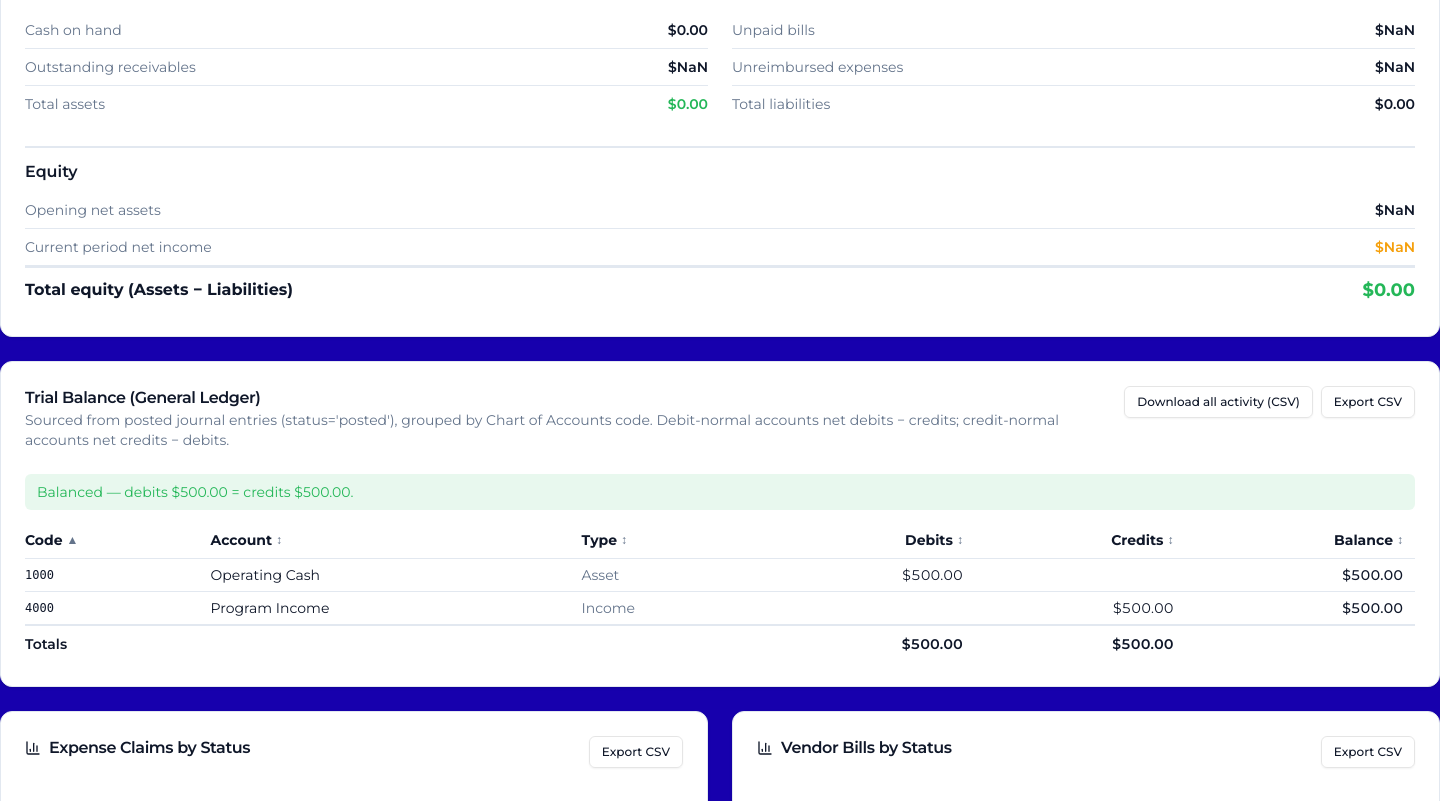
Reports page — partial date input regression (Task #65 / #75) › shows an inline error notice after a bulk export when one or more per-account fetches fail (Task #98)
The image size is (1440, 801).
(page scrolled)
Click the button with test id "export-csv-tb-all-activity" at [1219, 402], box [1124,386,1313,418]
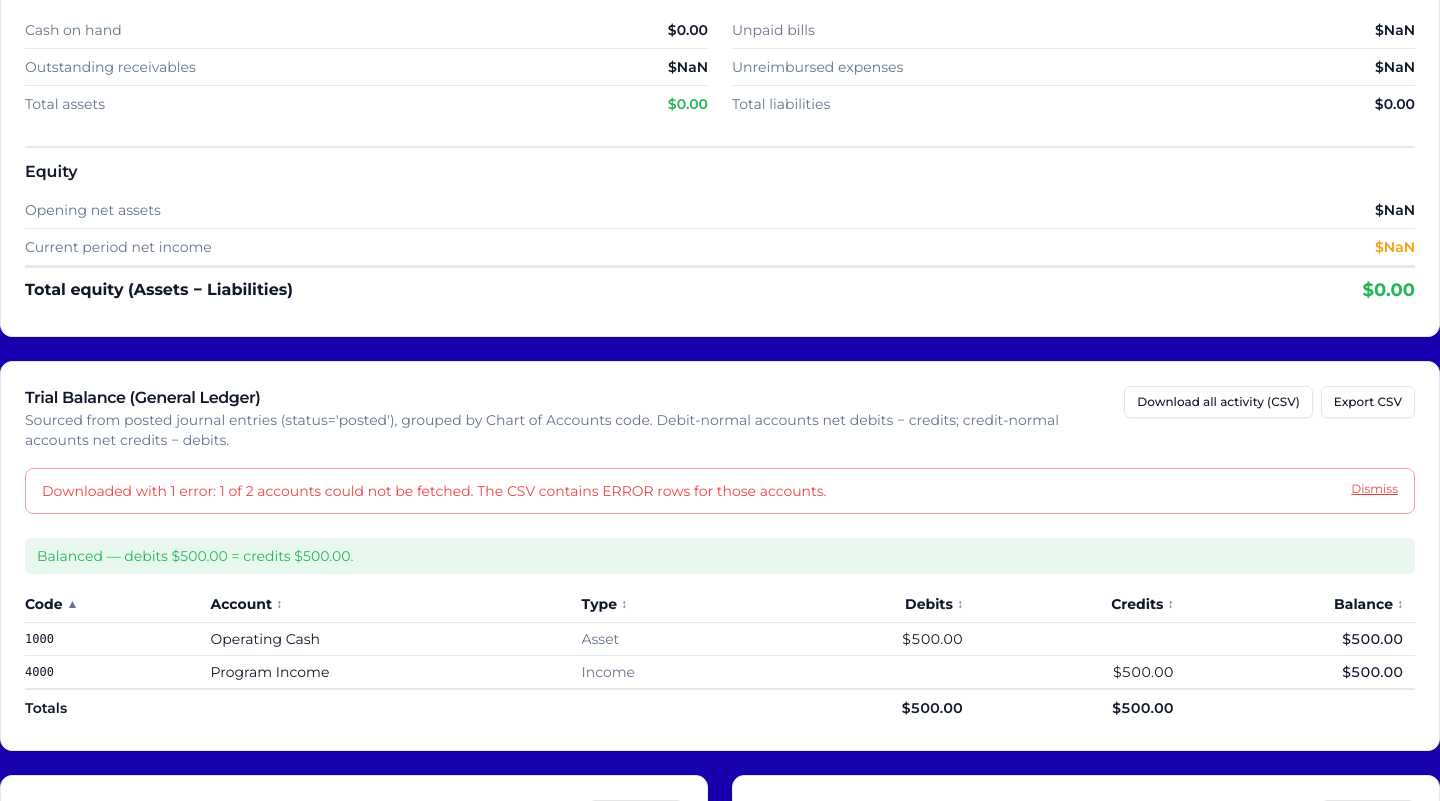
Note: Dismiss removes it.
Click the button with test id "bulk-error-notice-trial-balance-dismiss" at [1375, 489], box [1351,481,1398,497]
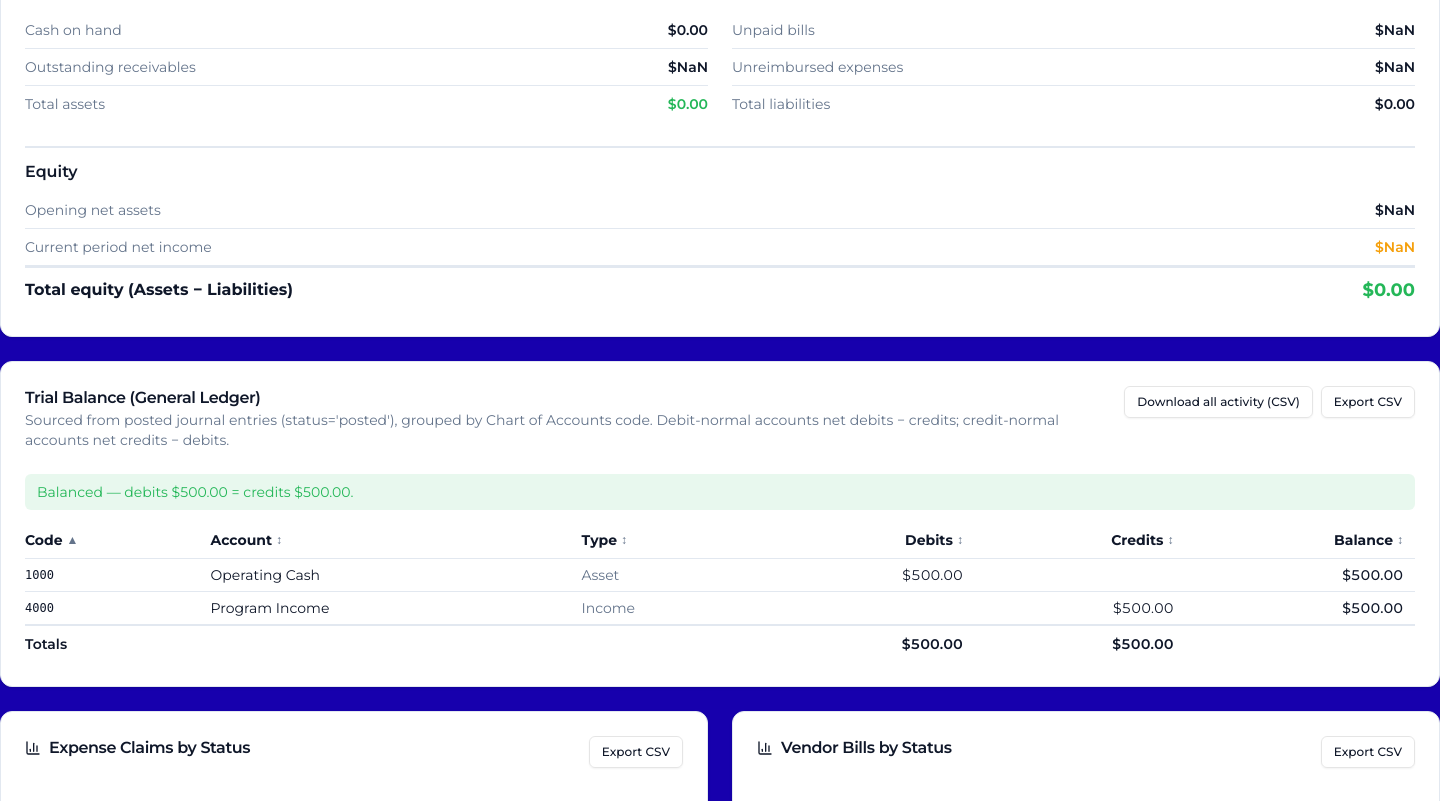
Check: the message with test id "bulk-error-notice-trial-balance" is gone
